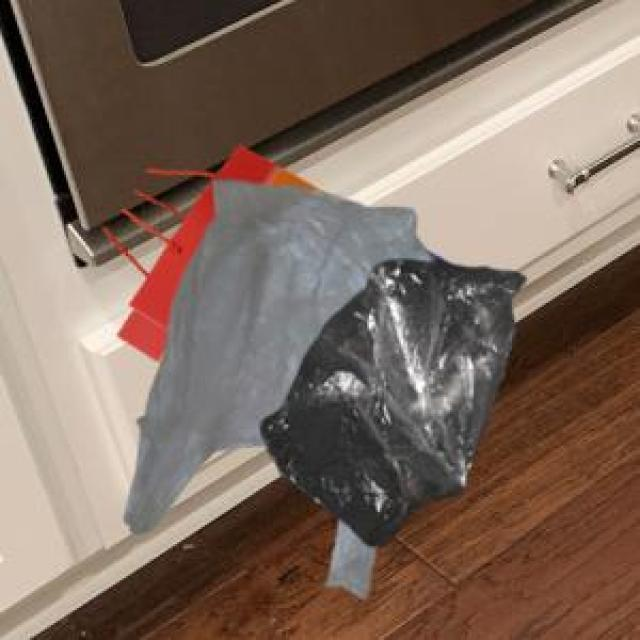miscellaneous trash: (256, 256, 521, 542)
paper: (113, 143, 443, 358)
